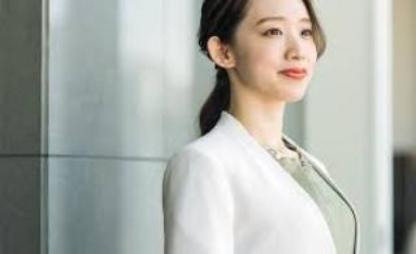person: (159, 0, 371, 254)
